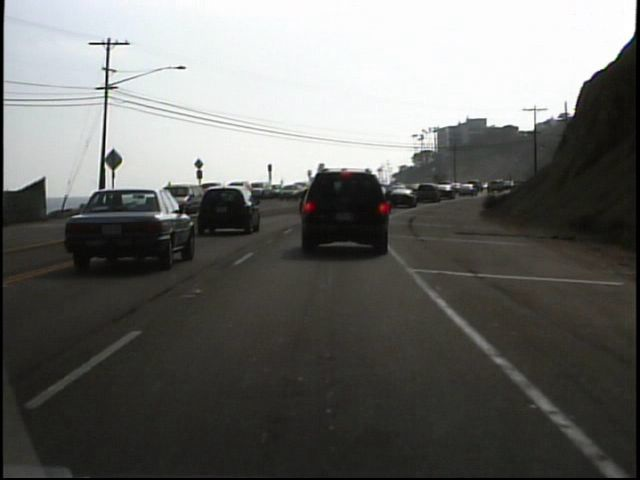person: (163, 179, 179, 207)
